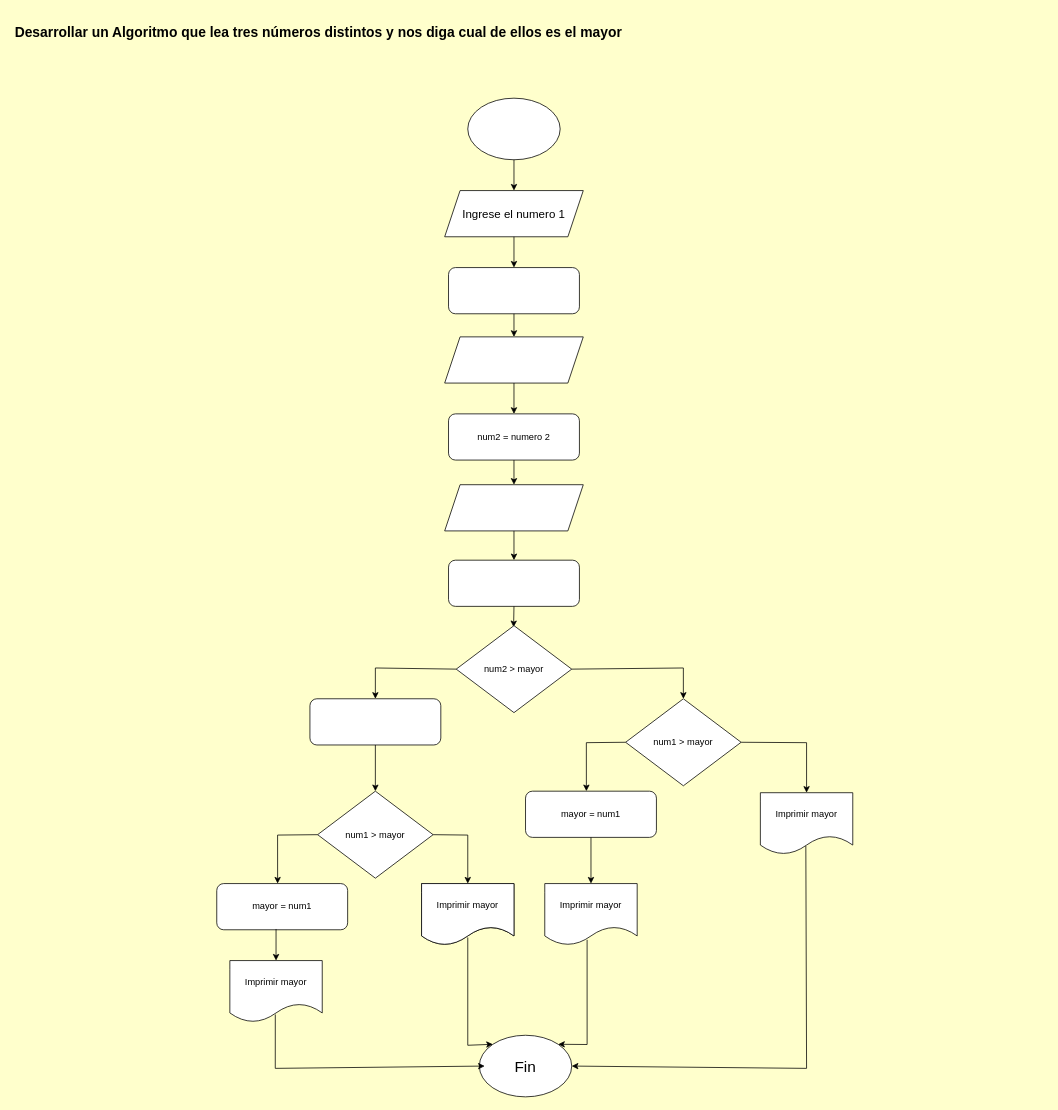
Image size: 1058x1110. Some labels were removed from this diagram. The shapes that lost their labels are listed below. From the top down, each one's centre as x and y in pixels, then its label:
At [513,128]: "Inicio".
At [513,290]: "num1 = numero 1".
At [513,359]: "Ingrese el numero 2".
At [513,507]: "Ingrese el numero 3".
At [513,582]: "mayor = numero 3".
At [375,721]: "mayor = num2".
